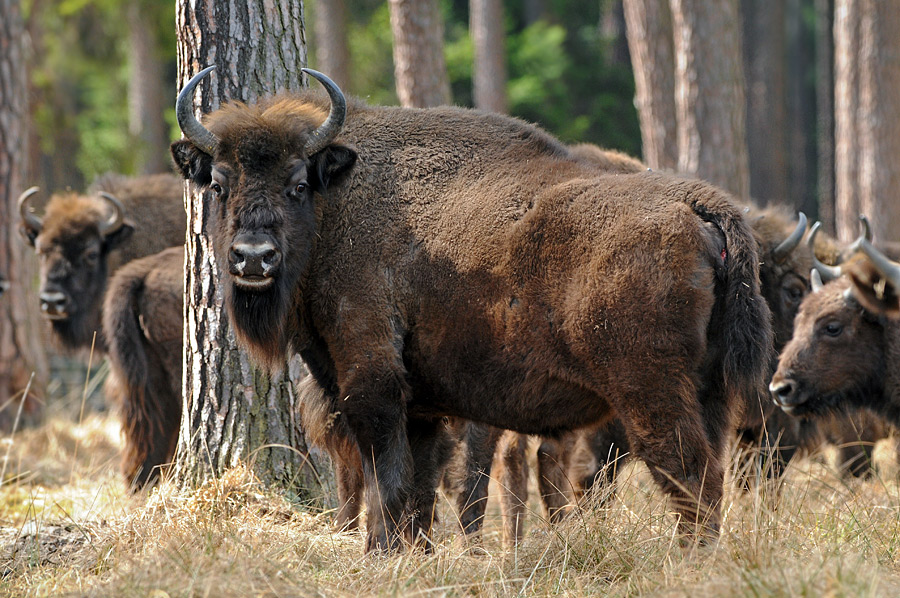zubr: (152, 50, 783, 549), (12, 162, 140, 344)
